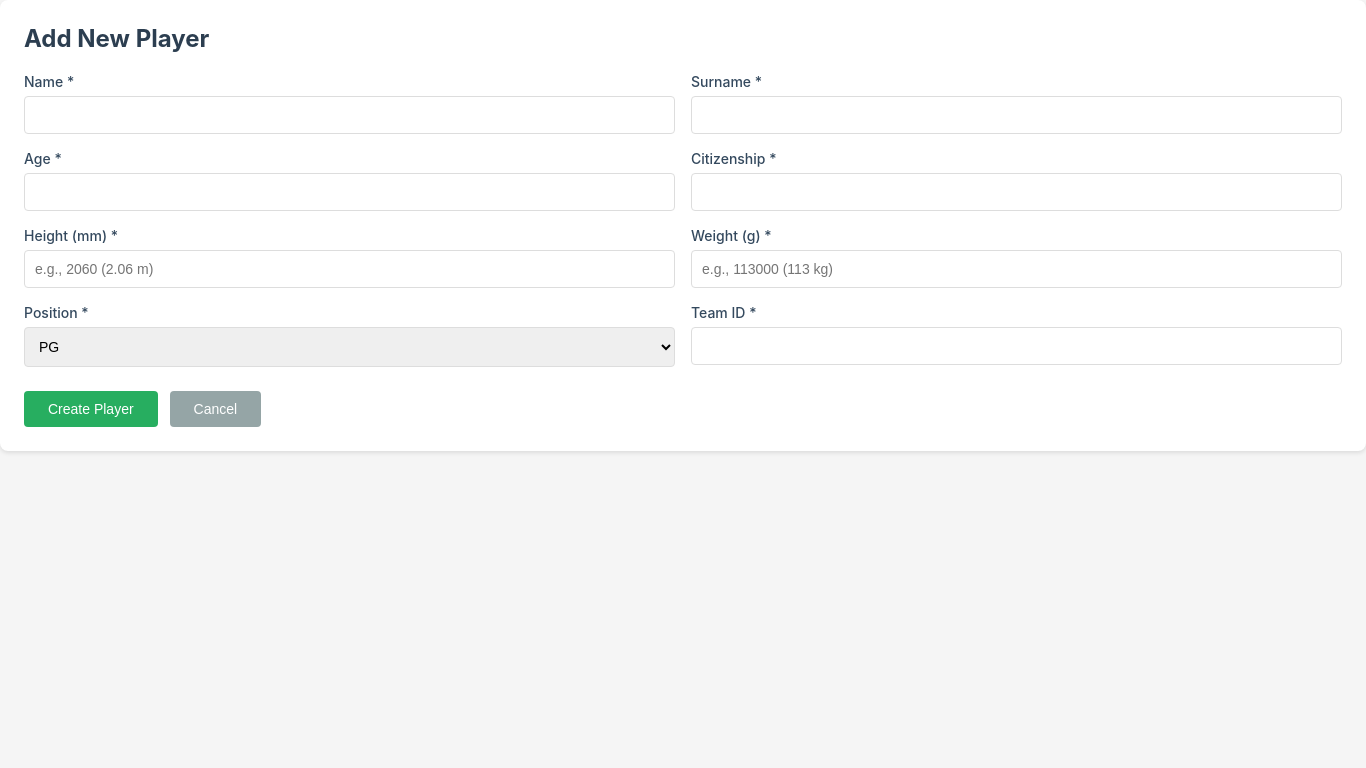
PlayerForm Component › shows validation errors when submitting empty form
Click the button "Create Player" at (91, 409), box 24,391 -> 158,427
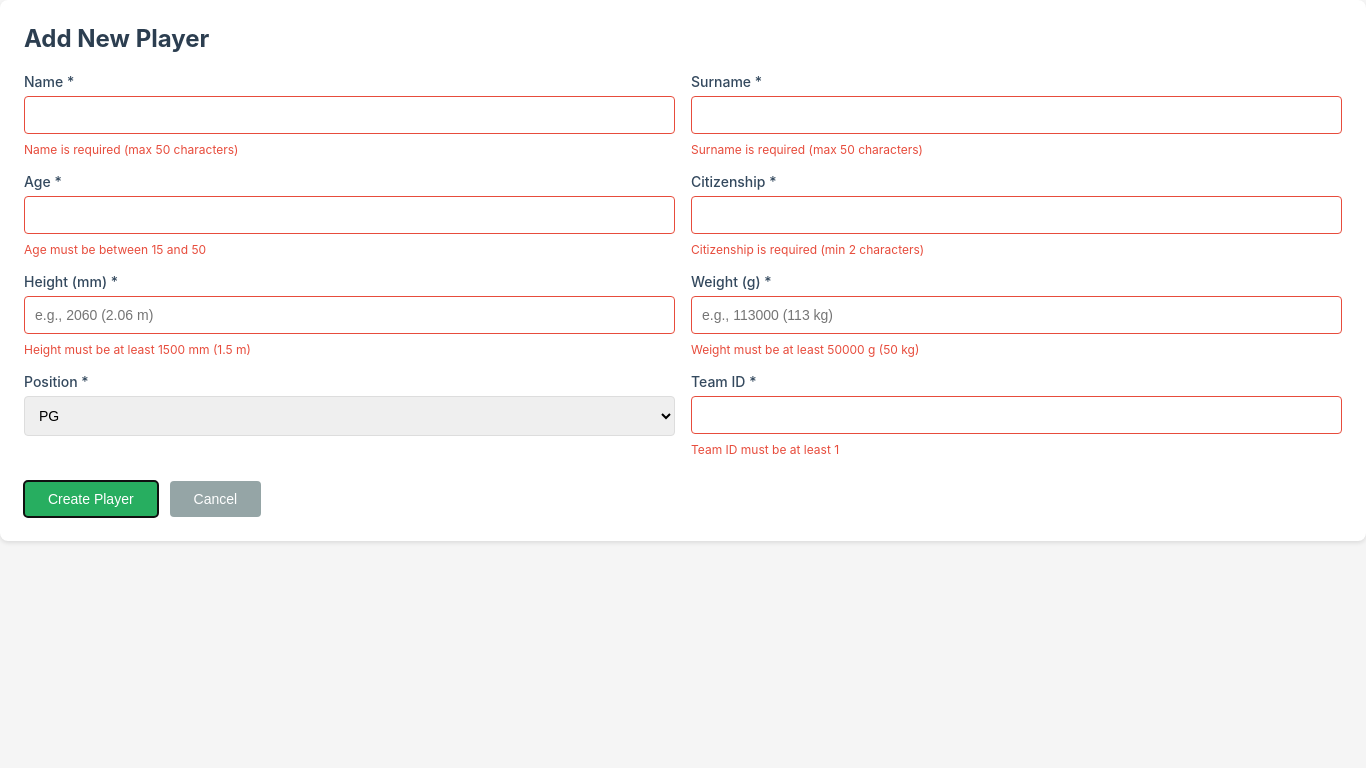
Expected: the text "Name is required (max 50 characters)" is shown, 24,142 -> 238,157
Expected: the text "Surname is required (max 50 characters)" is shown, 691,142 -> 923,157
